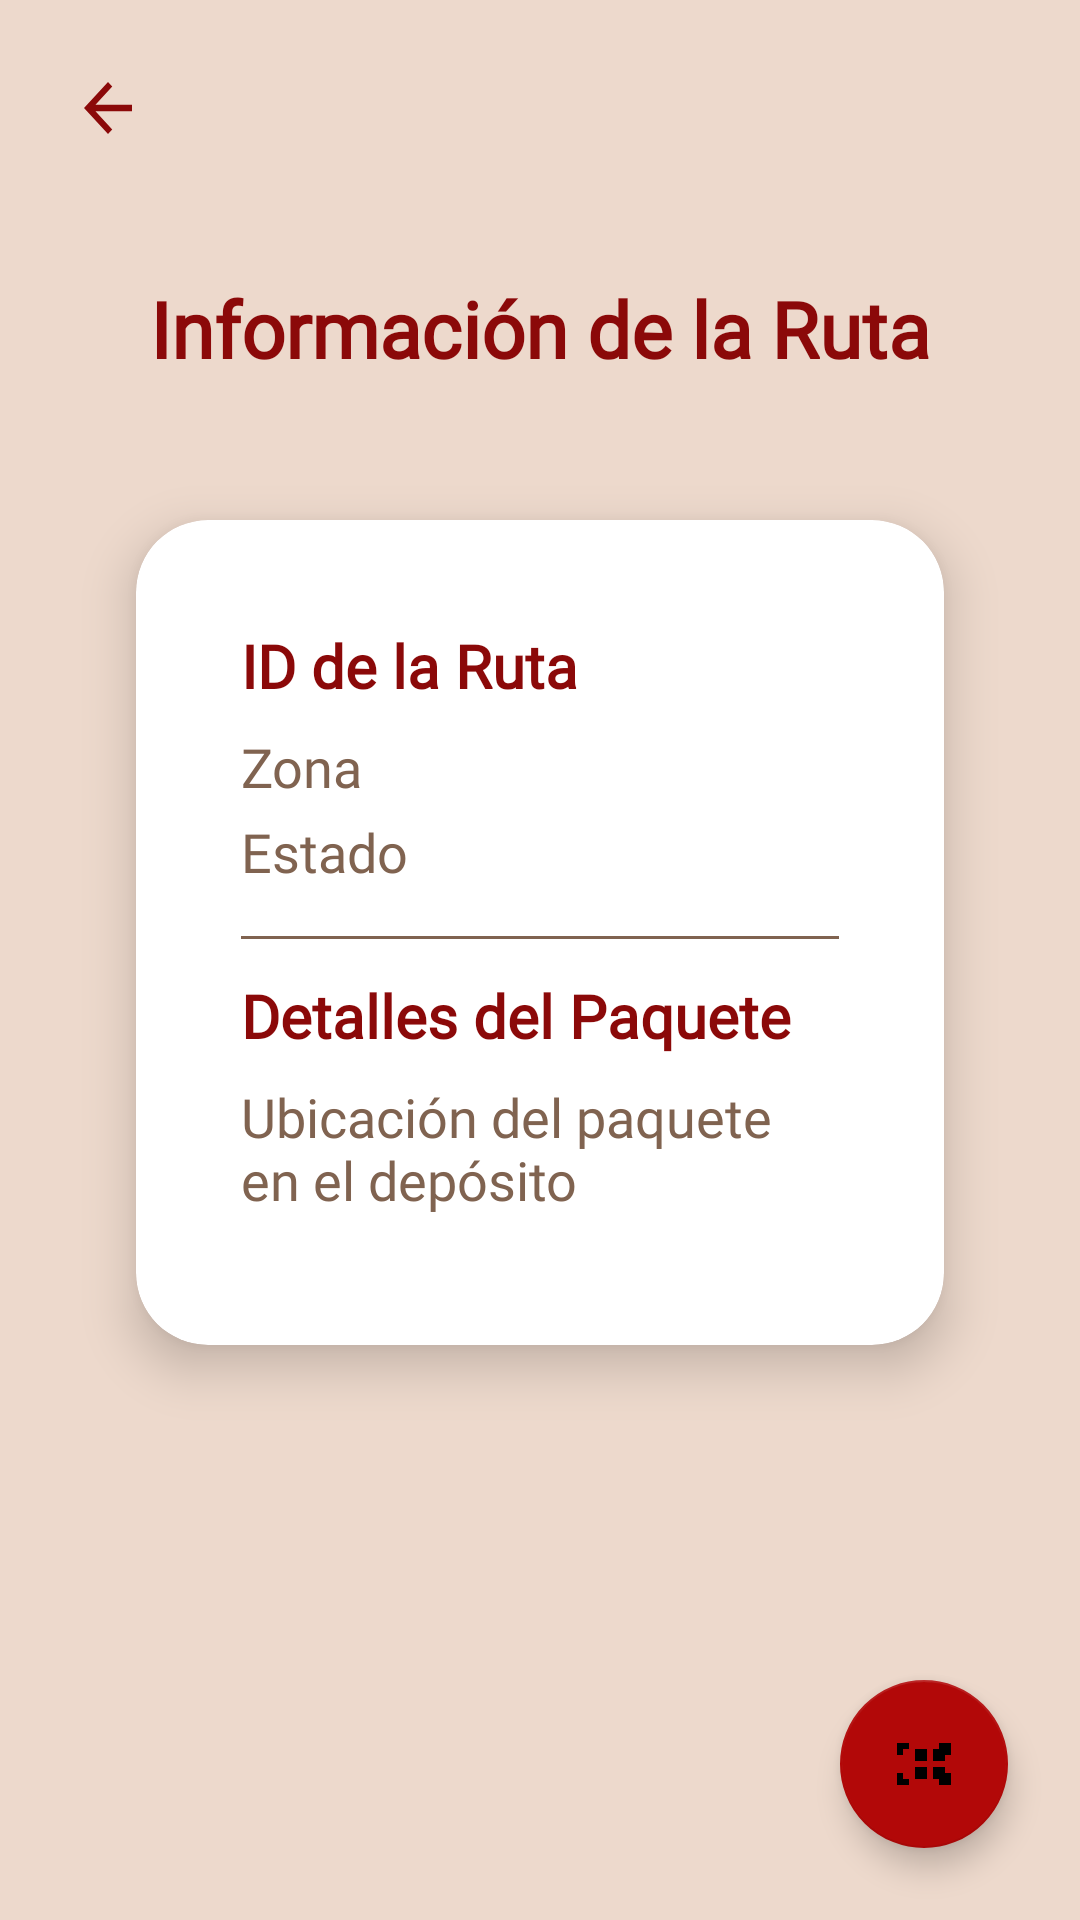

Locate icon controls on the screen. Image size 1080w x 1920h, boxes as Rect(x1, y1, x2, y2).
Escanear QR: Rect(840, 1680, 1008, 1848)
Volver: Rect(84, 82, 132, 134)
